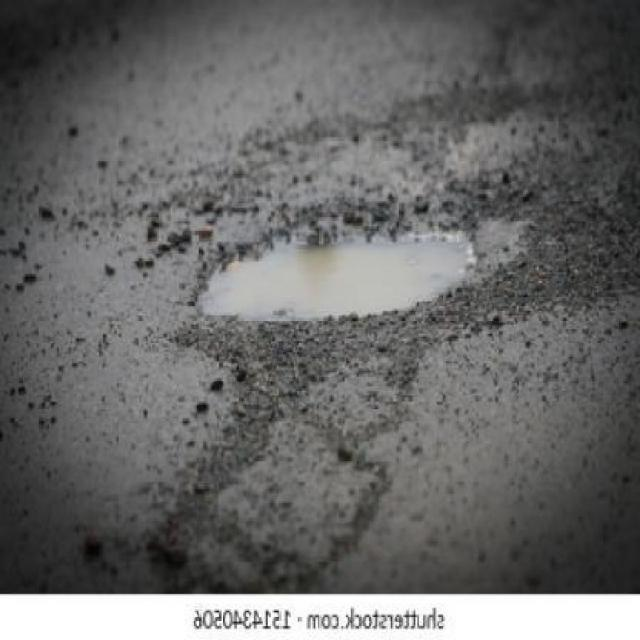pothole: (183, 206, 489, 337)
